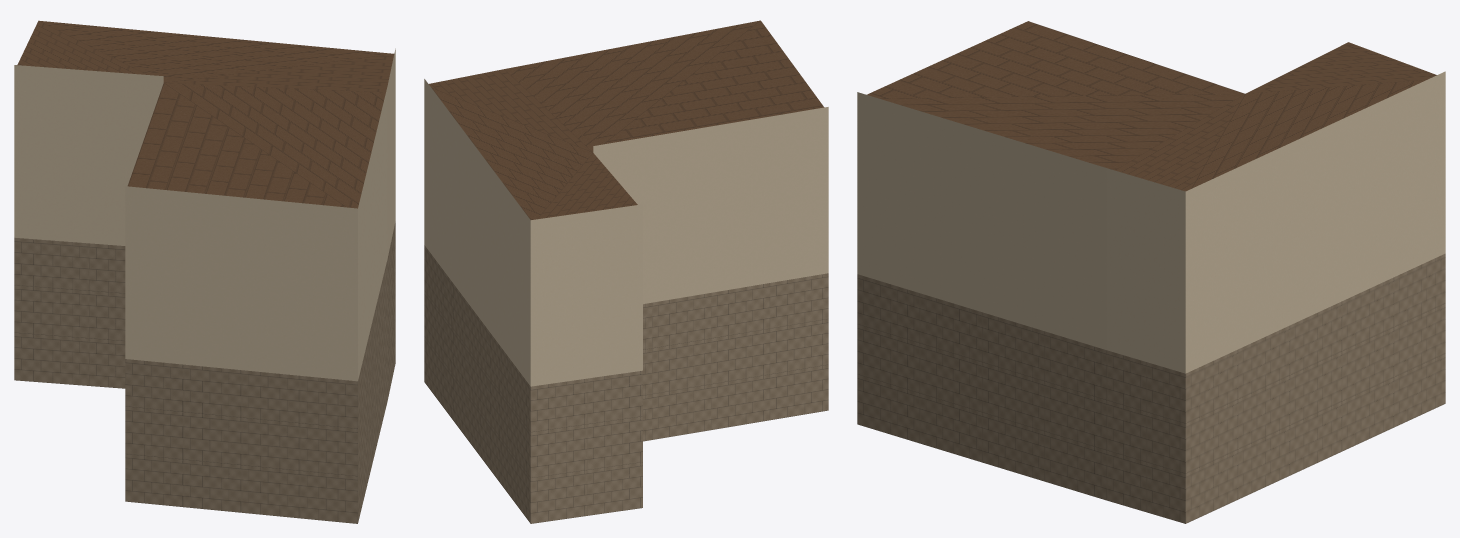
File: bld_c17_29_377.gltf
3 renders of one model, left to right at view 1: azimuth 30°, elevation 25°; view 2: azimuth 150°, elevation 25°; view 3: azimuth 270°, elevation 25°, orthographic. The views are drawn at different scales.
Parts seen in each view (by area): view 1: bld_c17_29_377; view 2: bld_c17_29_377; view 3: bld_c17_29_377.
Part boxes in pixels (<box>): bld_c17_29_377: <box>14,20,395,523</box>; bld_c17_29_377: <box>424,20,828,523</box>; bld_c17_29_377: <box>857,21,1445,523</box>.
Size of the model in its own units: 12.92 by 11.28 by 18.1.
4 materials, 4 textured.
